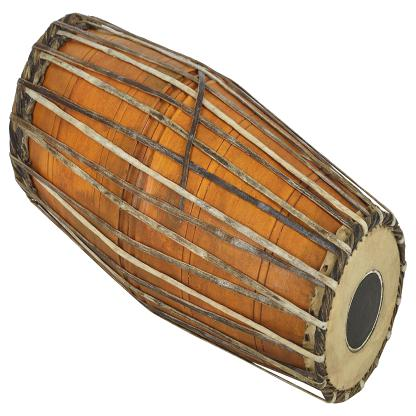Mridangam: (1, 2, 416, 411)
